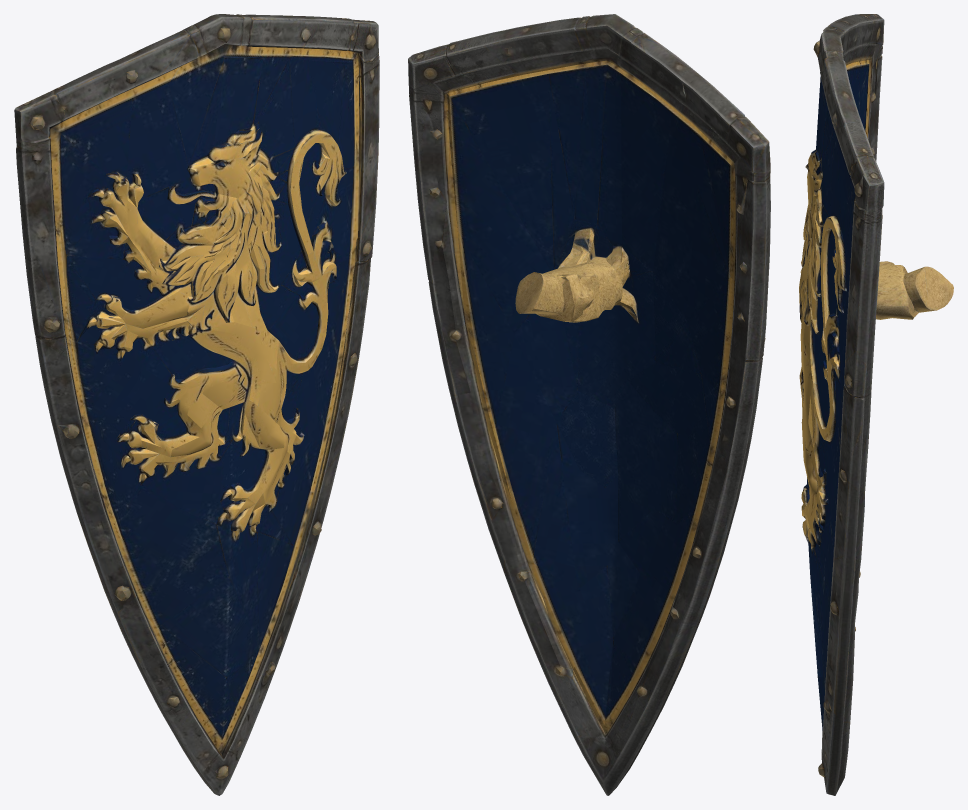
Rendered from acc_shield.glb.
3 views of the same model, side by side, from view 1: azimuth 30°, elevation 25°; view 2: azimuth 150°, elevation 25°; view 3: azimuth 270°, elevation 25° (orthographic). The views are drawn at different scales.
Visible parts, largest first — view 1: Mesh_0; view 2: Mesh_0; view 3: Mesh_0.
Boxes of the visible parts, box(x1,y1,x2,y2) form: Mesh_0: box(14, 14, 379, 795); Mesh_0: box(408, 14, 770, 795); Mesh_0: box(799, 14, 953, 795).
Bounding box in the file's own units: 0.916 × 1.9 × 0.3502.
1 material, 1 textured.
